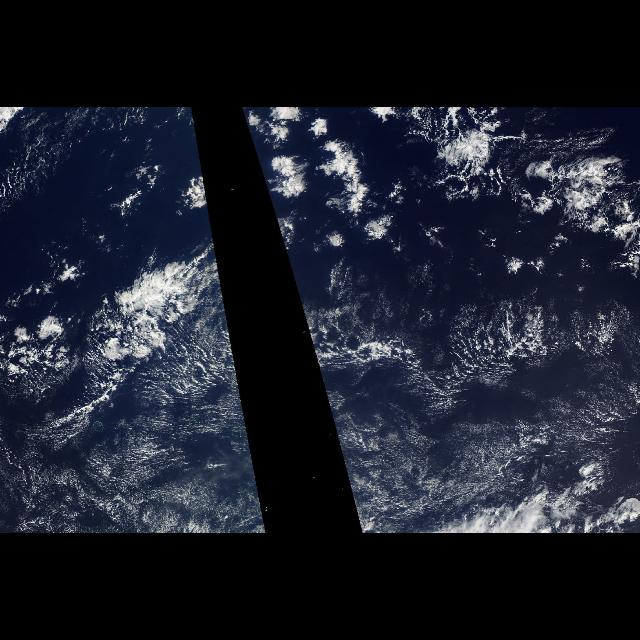Flower: (242, 108, 444, 274), (152, 110, 220, 274)
Gravel: (317, 374, 579, 484), (132, 374, 258, 484)
Sugar: (317, 297, 639, 533), (0, 364, 268, 534)
